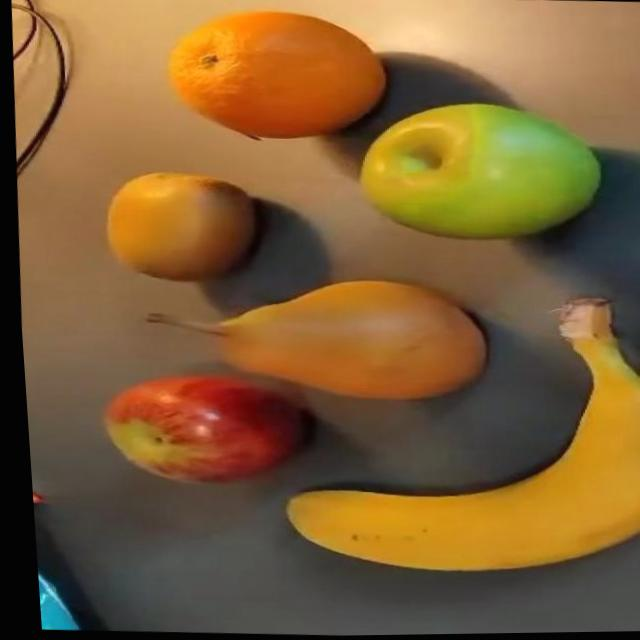Apple: (338, 80, 626, 288), (93, 369, 305, 490)
Banana: (264, 288, 640, 584)
Orange: (161, 7, 392, 148)
